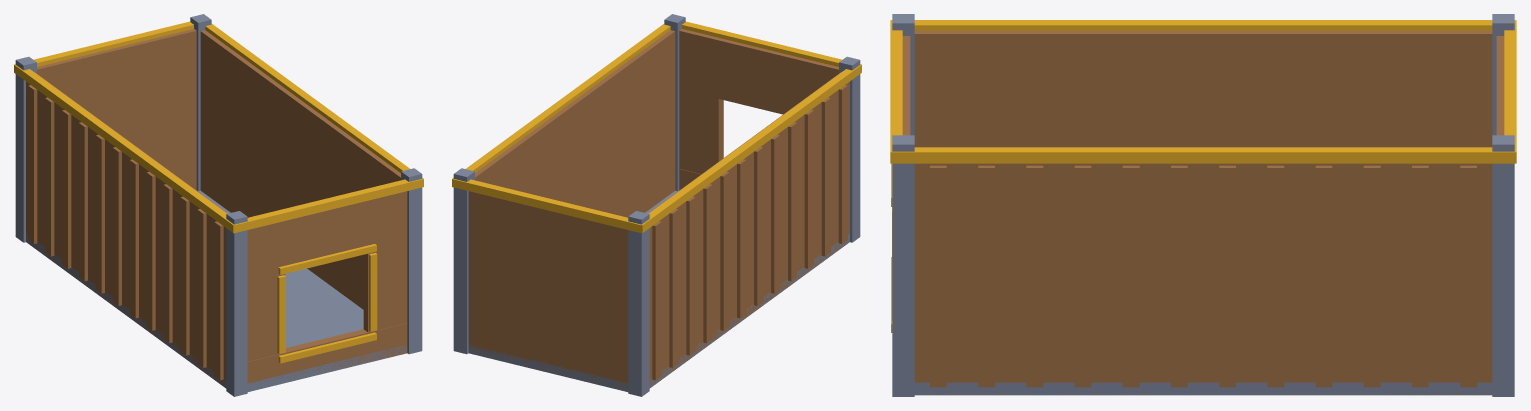
File: container.glb
3 views of the same model, side by side, from view 1: azimuth 30°, elevation 25°; view 2: azimuth 150°, elevation 25°; view 3: azimuth 270°, elevation 25° (orthographic). The views are drawn at different scales.
Parts seen in each view (by area): view 1: container; view 2: container; view 3: container.
Boxes of the visible parts, left/top/right/bottom form: container: left=14, top=14, right=423, bottom=396; container: left=452, top=14, right=861, bottom=396; container: left=890, top=14, right=1516, bottom=396.
Bounding box in the file's own units: 2.25 × 2 × 4.5.
